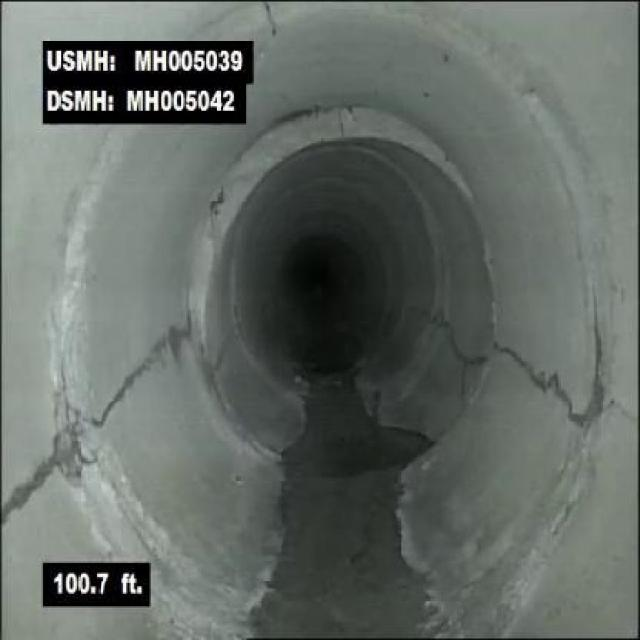Crack: (8, 416, 100, 524), (94, 328, 178, 428), (502, 344, 583, 430), (260, 2, 280, 36)
Joint offset: (262, 100, 452, 166), (189, 202, 228, 312)
